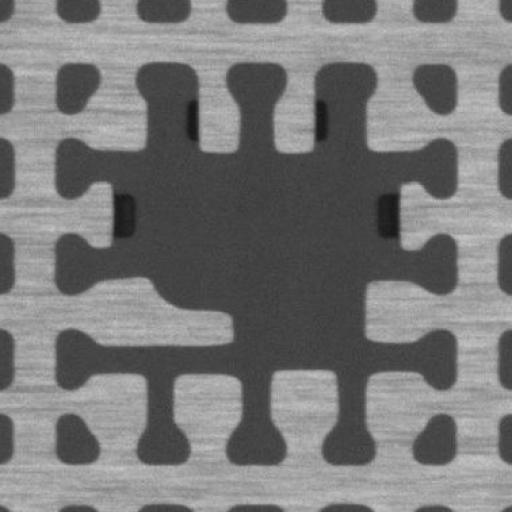NO_DIE: (53, 58, 463, 472)
